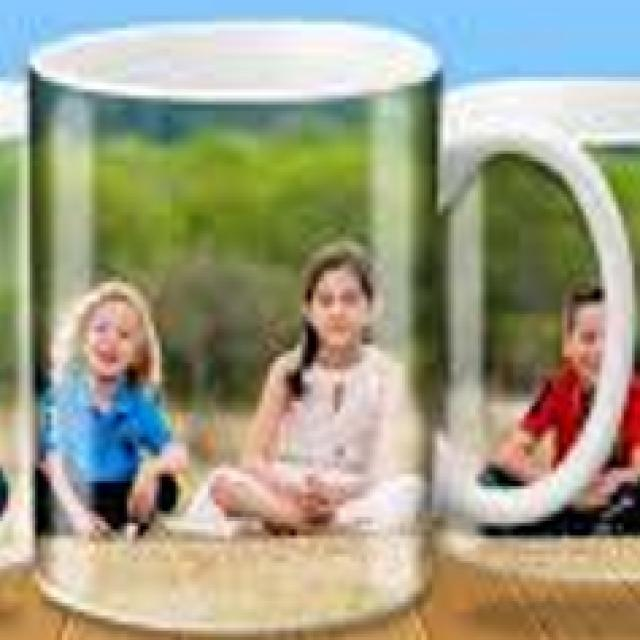taza: (28, 22, 633, 635)
